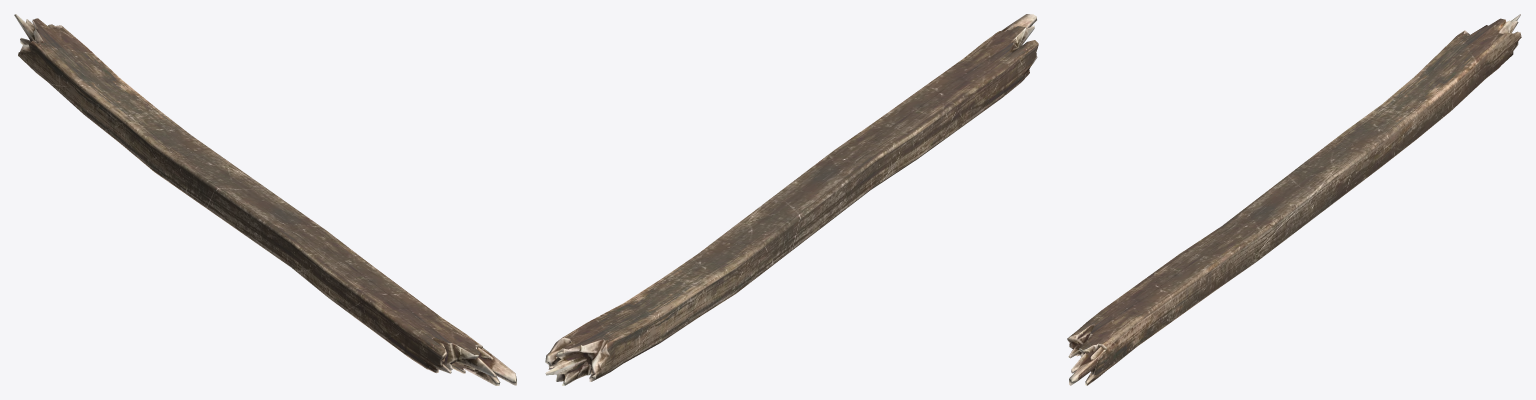
3 views of the same model, side by side, from view 1: azimuth 30°, elevation 25°; view 2: azimuth 150°, elevation 25°; view 3: azimuth 330°, elevation 25° (orthographic). The views are drawn at different scales.
Visible parts, largest first — view 1: SM_SaradominTemple_Floor_Plank_01_v2_LOD0; view 2: SM_SaradominTemple_Floor_Plank_01_v2_LOD0; view 3: SM_SaradominTemple_Floor_Plank_01_v2_LOD0.
Boxes of the visible parts, x1,y1,x2,y2 form: SM_SaradominTemple_Floor_Plank_01_v2_LOD0: [14, 14, 516, 385]; SM_SaradominTemple_Floor_Plank_01_v2_LOD0: [545, 14, 1038, 385]; SM_SaradominTemple_Floor_Plank_01_v2_LOD0: [1067, 14, 1521, 385].
Size of the model in its own units: 0.2218 by 0.2102 by 4.04.
1 material, 1 textured.
